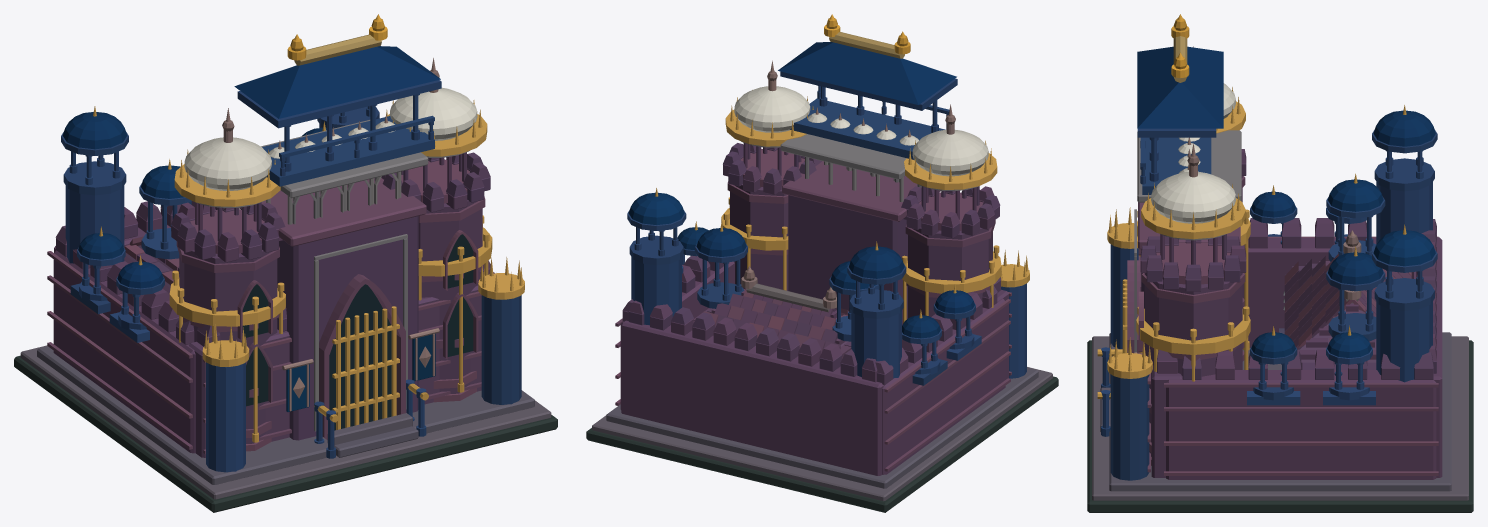
3 views of the same model, side by side, from view 1: azimuth 30°, elevation 25°; view 2: azimuth 150°, elevation 25°; view 3: azimuth 270°, elevation 25° (orthographic). The views are drawn at different scales.
Parts seen in each view (by area): view 1: barracks_L11_0, barracks_L11_1; view 2: barracks_L11_0, barracks_L11_1; view 3: barracks_L11_0, barracks_L11_1.
Boxes of the visible parts, box(x1,y1,x2,y2) form: barracks_L11_0: box(14, 18, 557, 512); barracks_L11_1: box(93, 14, 524, 442); barracks_L11_0: box(586, 18, 1058, 512); barracks_L11_1: box(655, 14, 1029, 323); barracks_L11_0: box(1087, 18, 1473, 512); barracks_L11_1: box(1097, 14, 1406, 398).
Size of the model in its own units: 5.6 by 6.38 by 5.6.
